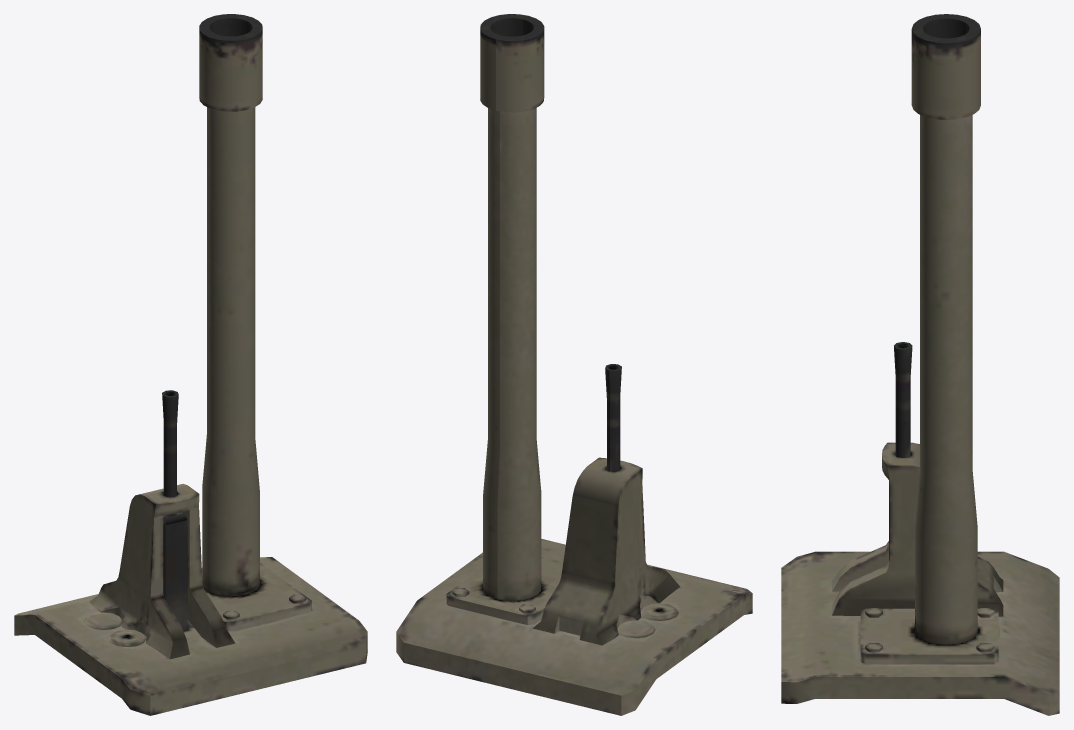
Rendered from Gun_05.glb.
3 views of the same model, side by side, from view 1: azimuth 30°, elevation 25°; view 2: azimuth 150°, elevation 25°; view 3: azimuth 270°, elevation 25° (orthographic). The views are drawn at different scales.
Visible parts, largest first — view 1: set_0_group_0; view 2: set_0_group_0; view 3: set_0_group_0.
Part boxes in pixels (left/top/right/bottom): set_0_group_0: left=14, top=14, right=367, bottom=715; set_0_group_0: left=396, top=14, right=752, bottom=715; set_0_group_0: left=781, top=14, right=1059, bottom=715.
Size of the model in its own units: 0.56 by 1.36 by 0.5254.
Materials: 1 (1 with a texture image).
